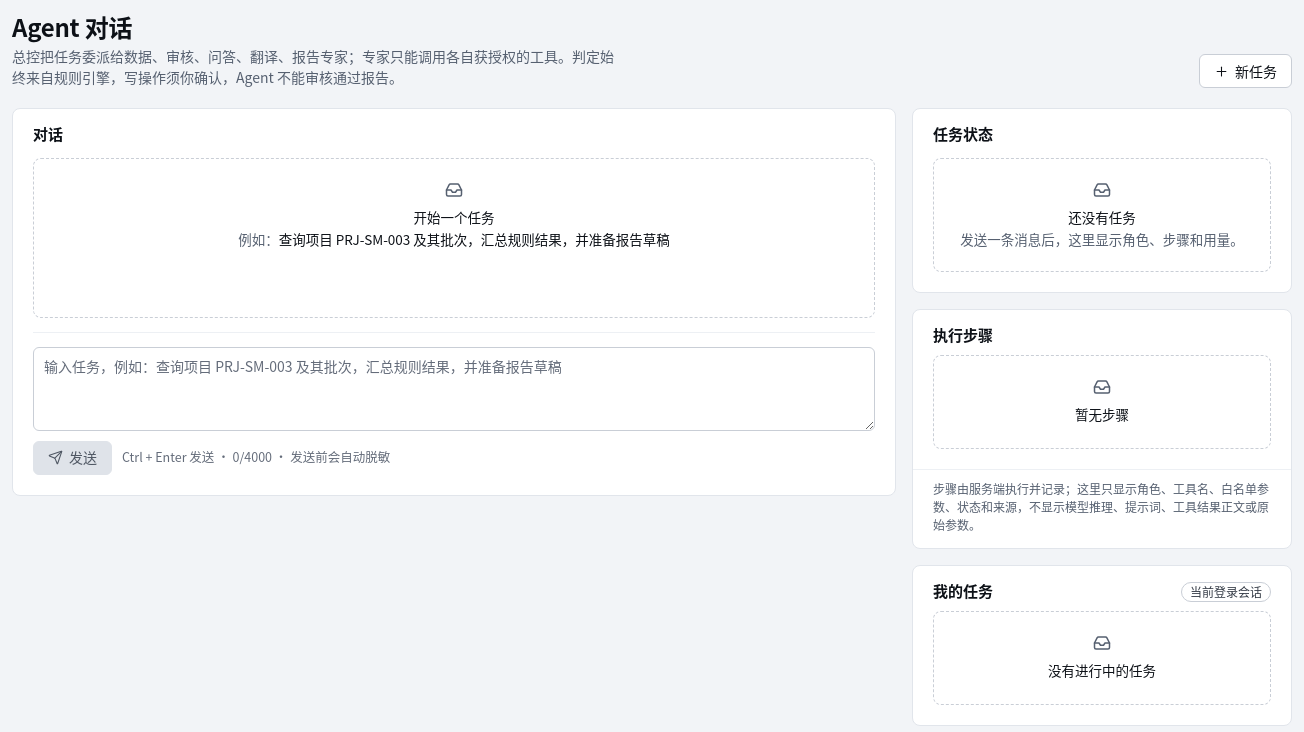
Test: Agent 对话：等待、超时、取消、失败、会话过期 › 处理中：显示进度和“停止等待”，重复点击只发一次；停止后可再次发送且保留输入
In the text box named "消息": (454, 388) [33, 346, 875, 430], type "你好"
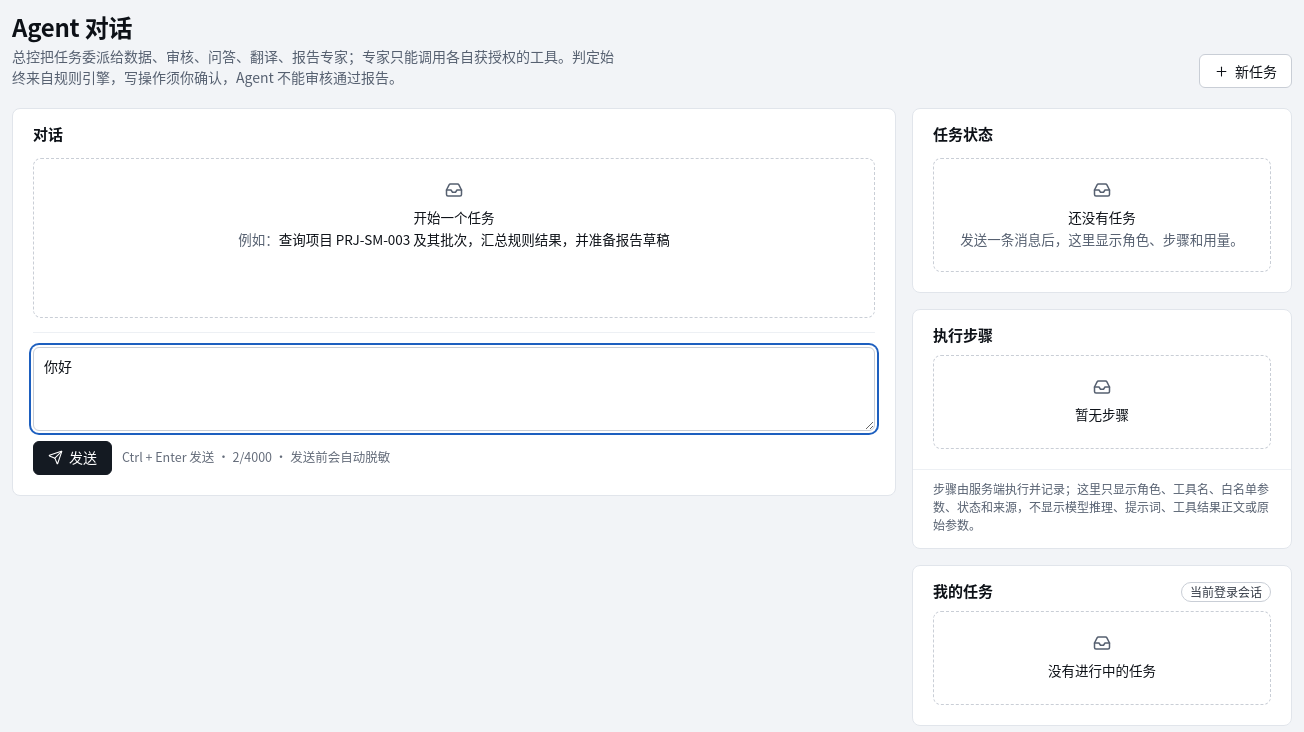
Click the button "发送": (72, 458) [33, 440, 112, 474]
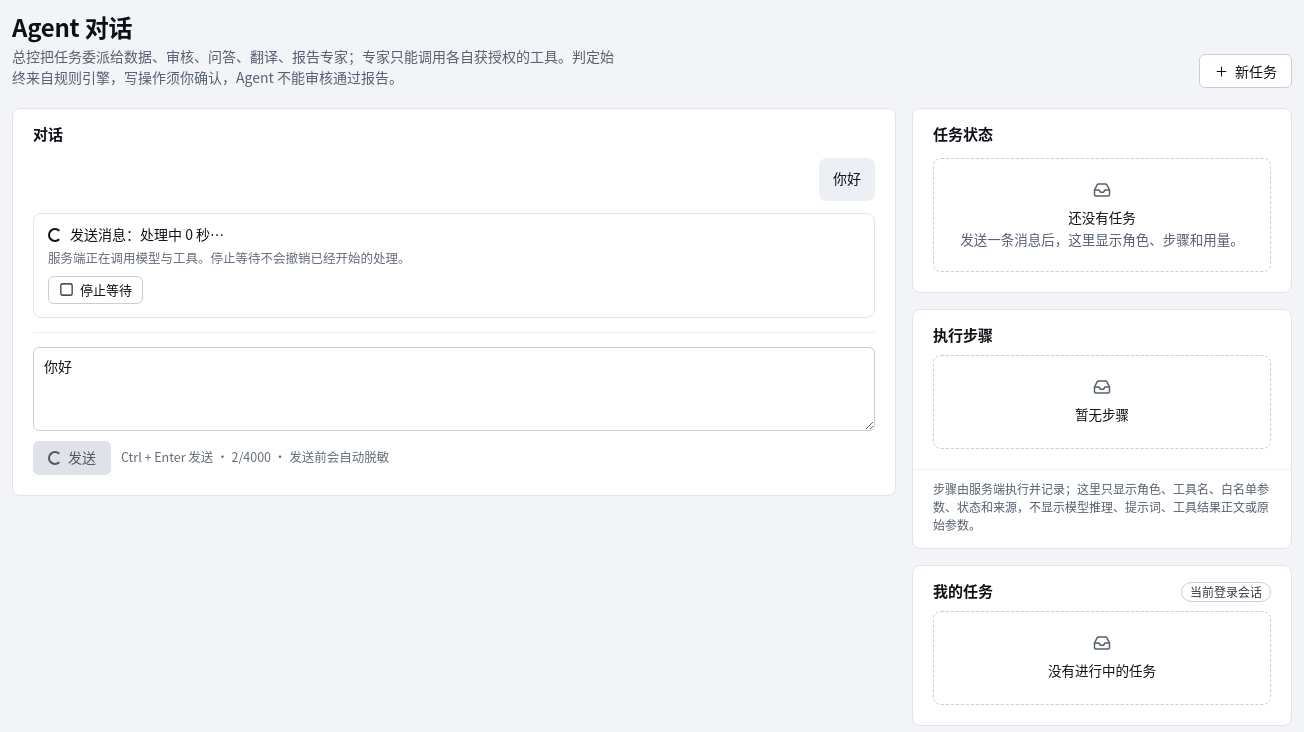
Expected: the message "处理中" is shown, [33, 213, 875, 318]
Expected: the text "服务端正在调用模型与工具。停止等待不会撤销已经开始的处理。" is shown, [48, 248, 410, 267]
Expected: the button "发送" is disabled, [33, 440, 111, 474]
Click the button "停止等待": (96, 290) [48, 276, 143, 304]
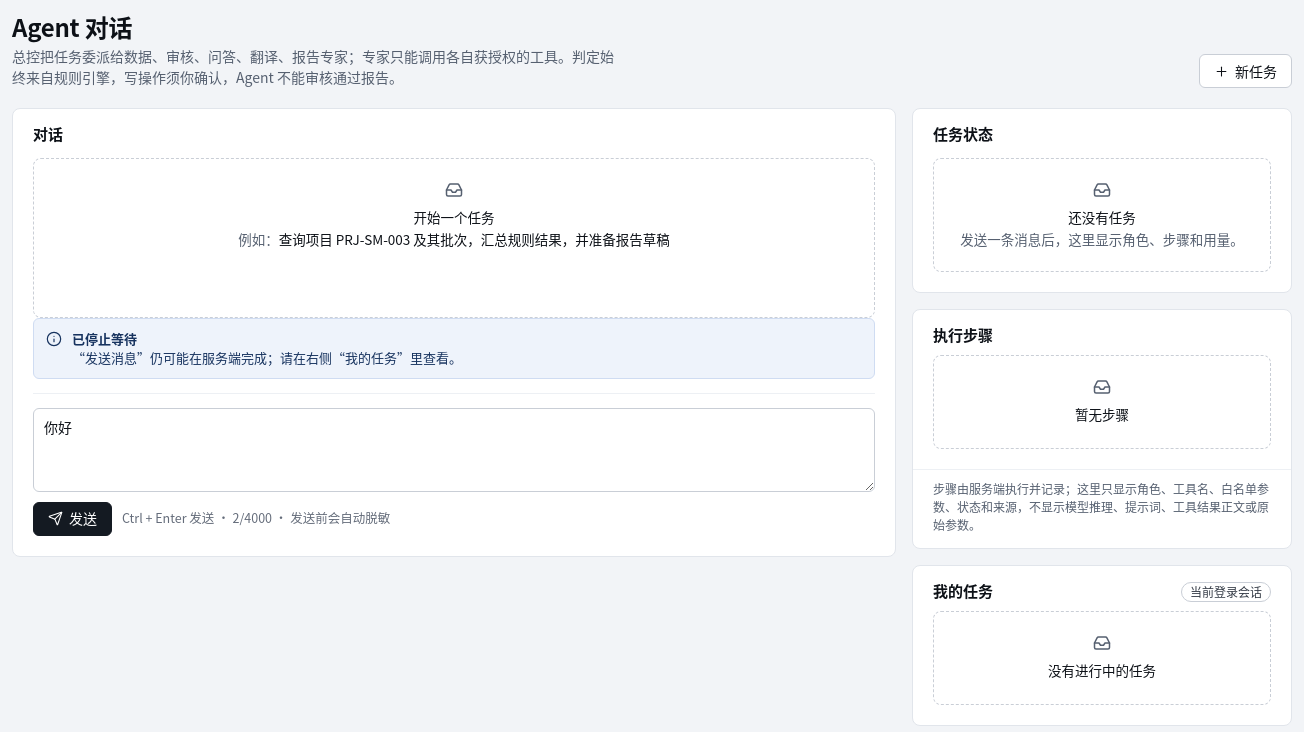
Expected: the text "已停止等待" is shown, [72, 328, 137, 348]
Expected: the button "发送" is enabled, [33, 502, 112, 536]
